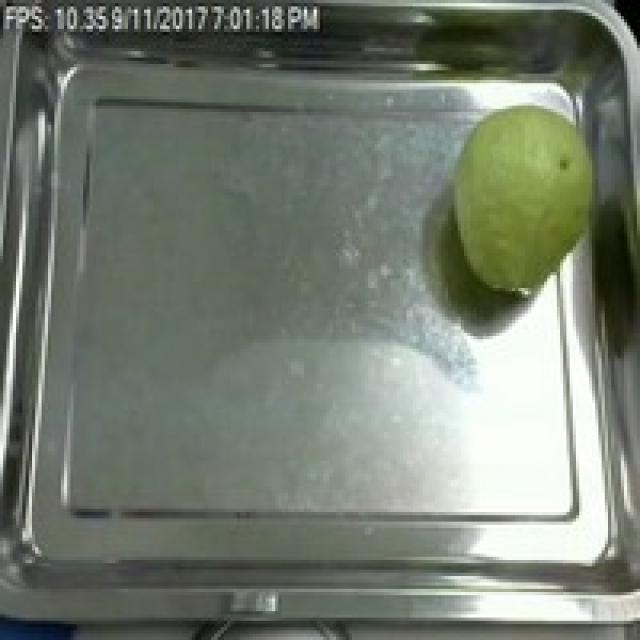Fruit: (429, 87, 621, 310)
